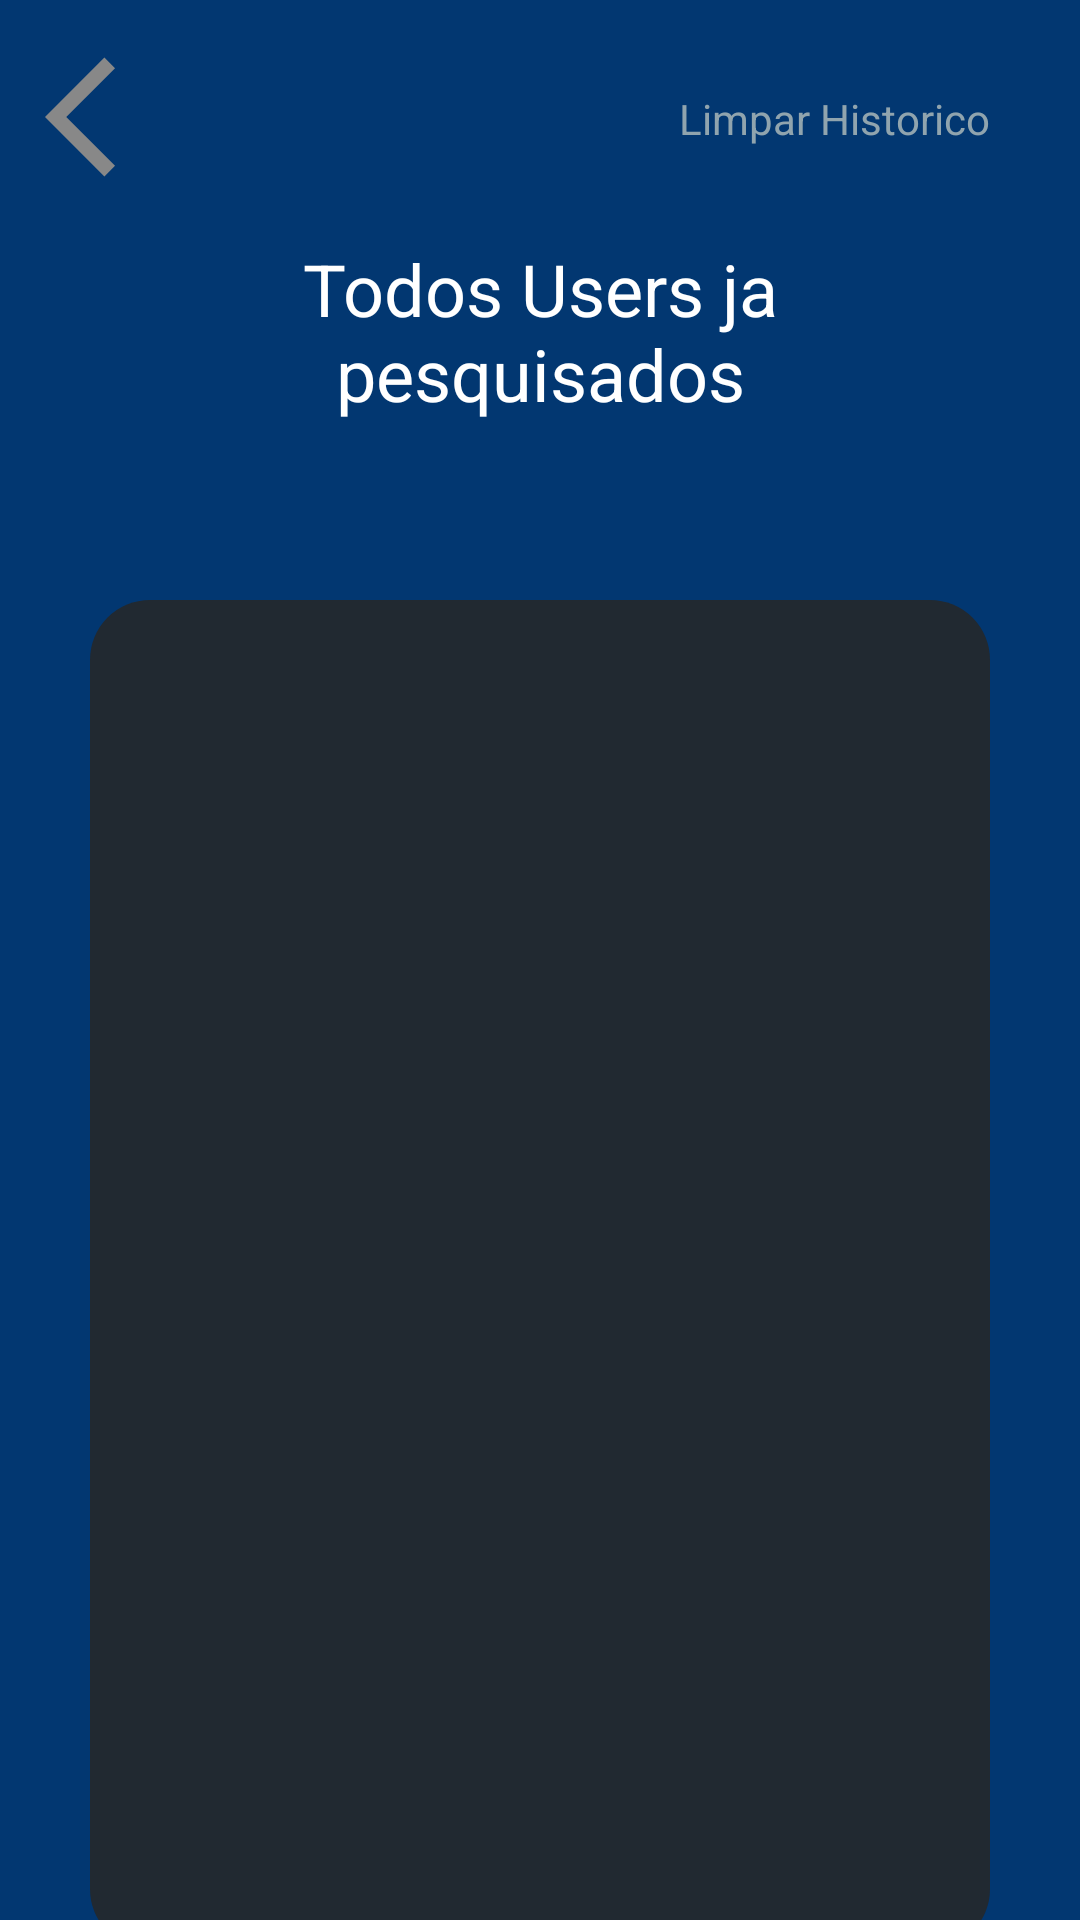

Locate icon controls on the screen. Image size 1080*1920, boxes as [x1,y1,x2,y2].
Seta Volta: [45,57,115,177]
